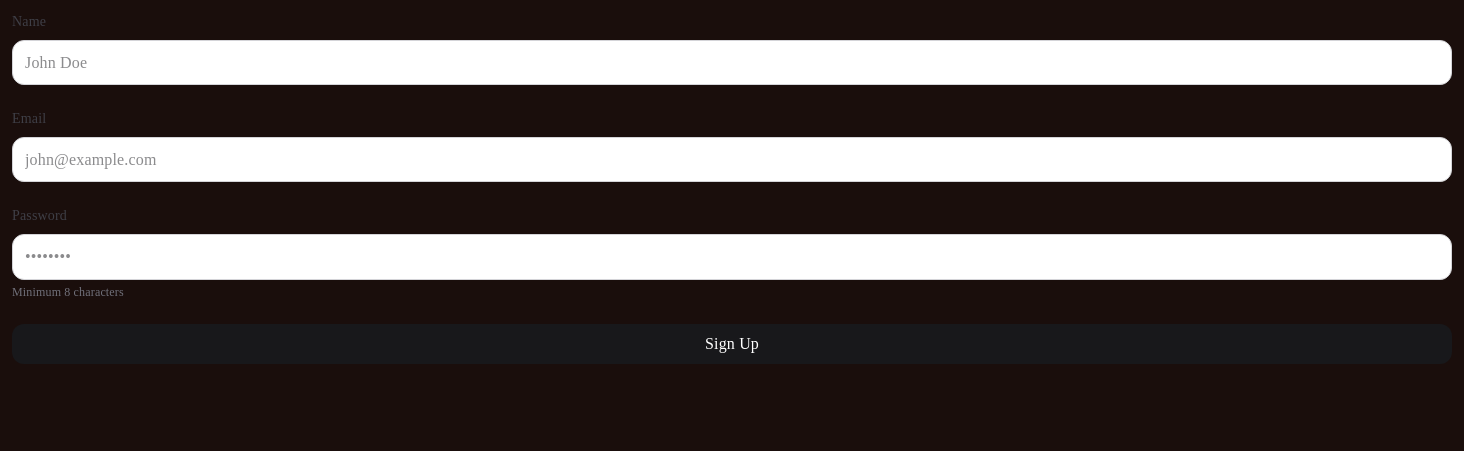
Test: SignUpForm › should display error message on failed sign-up
Type "Test User" into the field labelled "Name".
click(732, 63); type("Test User")  # box [12,40,1452,85]
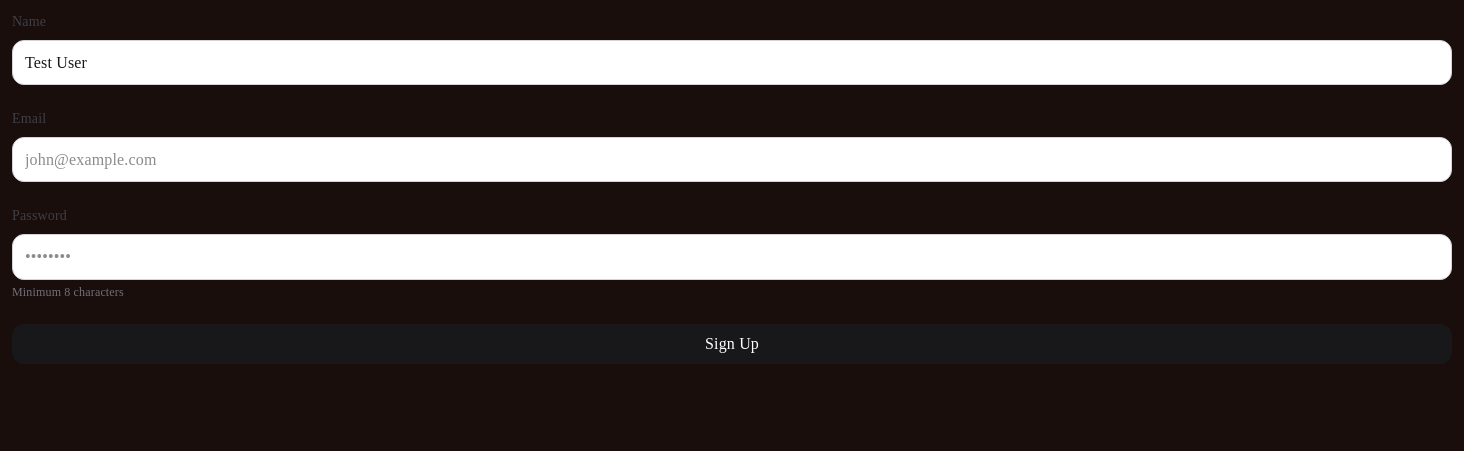
Type "test@example.com" into the field labelled "Email".
click(732, 160); type("test@example.com")  # box [12,137,1452,182]
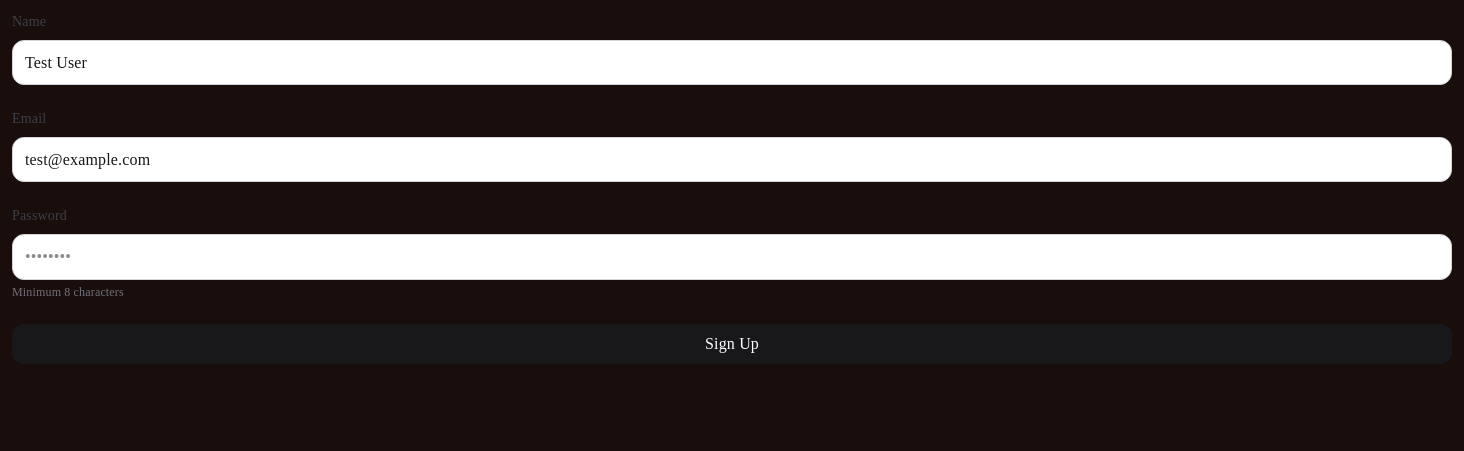
Type "password123" into the password field labelled "Password".
click(732, 257); type("password123")  # box [12,234,1452,280]
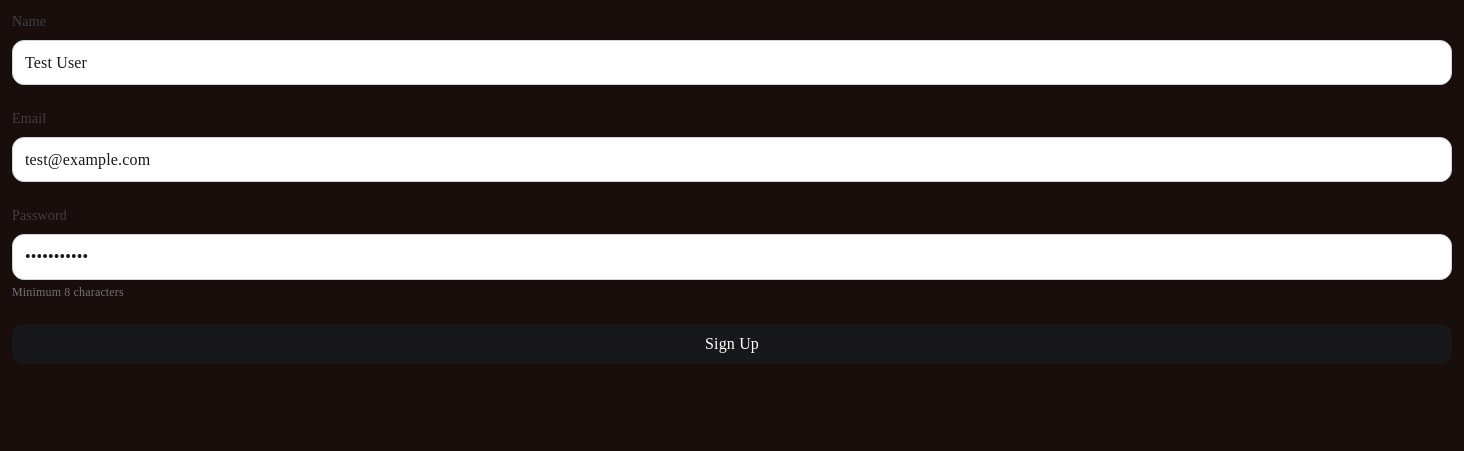
Click the button "Sign Up".
click(732, 344)  # box [12,324,1452,364]
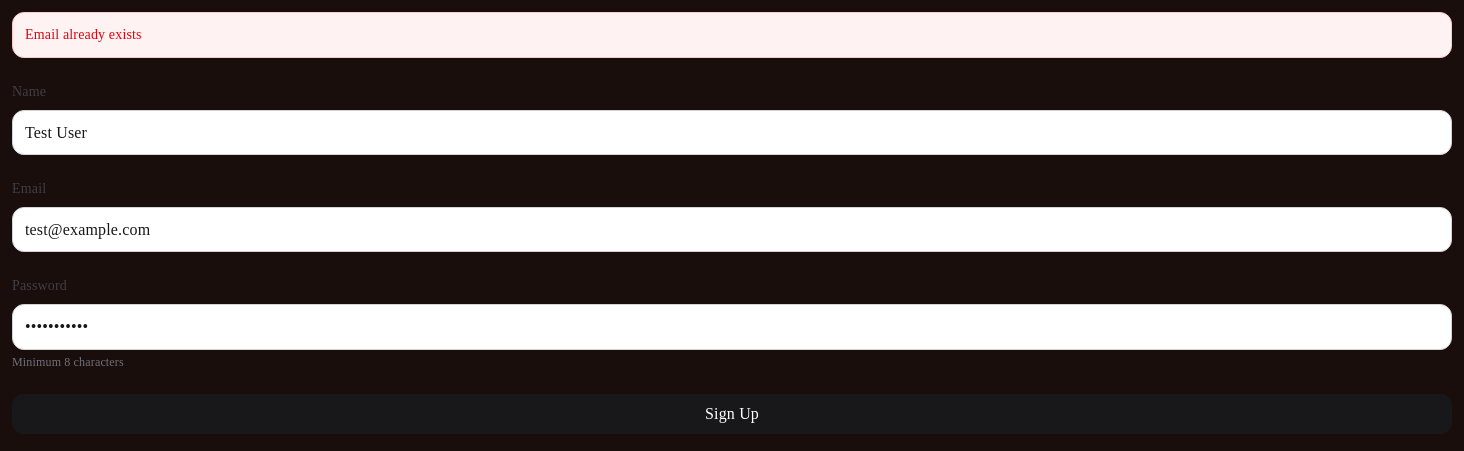
Check: the text "Email already exists" is shown, box [25,27,142,42]
